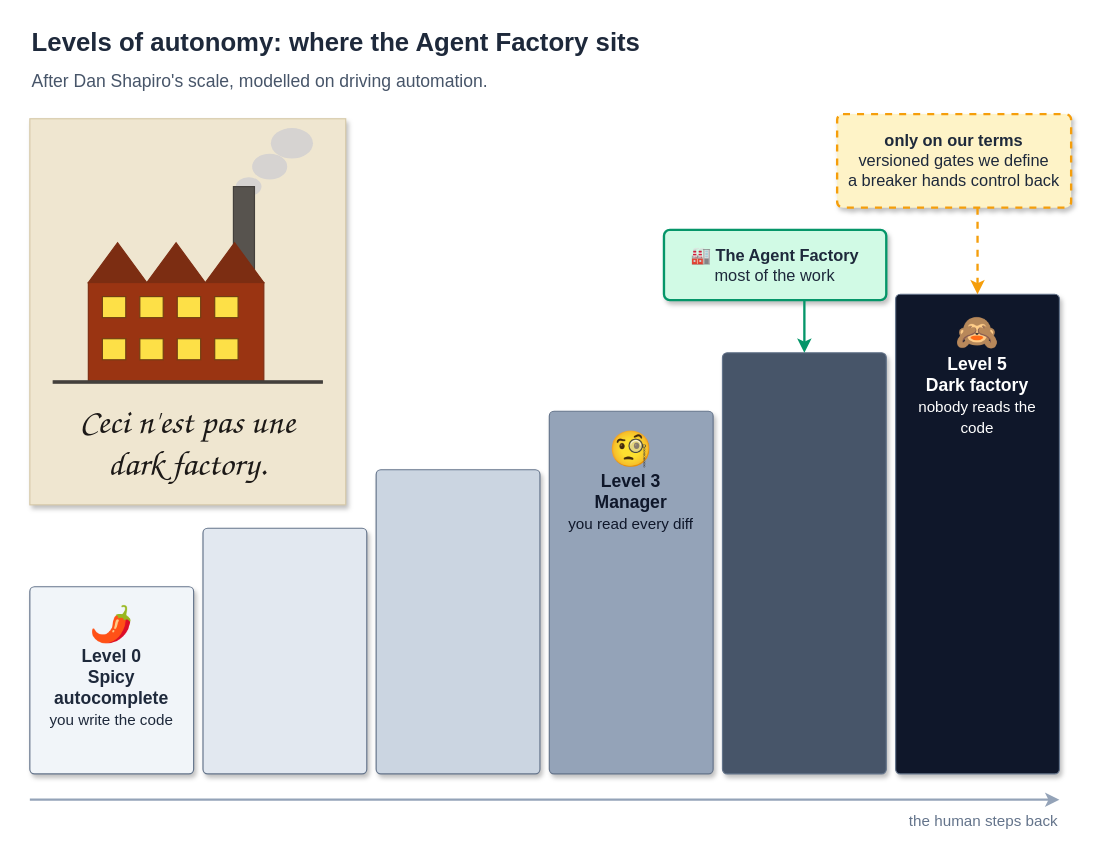
The diagram is 1102 pixels wide and 851 high, and some of its shapes have lost their labels. Each missing label, with the centre of its shape:
📝 Level 4 Spec writer you write specs, check the tests: point (805, 564)
🤝 Level 2 Pair programming a junior buddy: point (458, 623)
🧪 Level 1 Discrete tasks « write a test »: point (285, 652)
